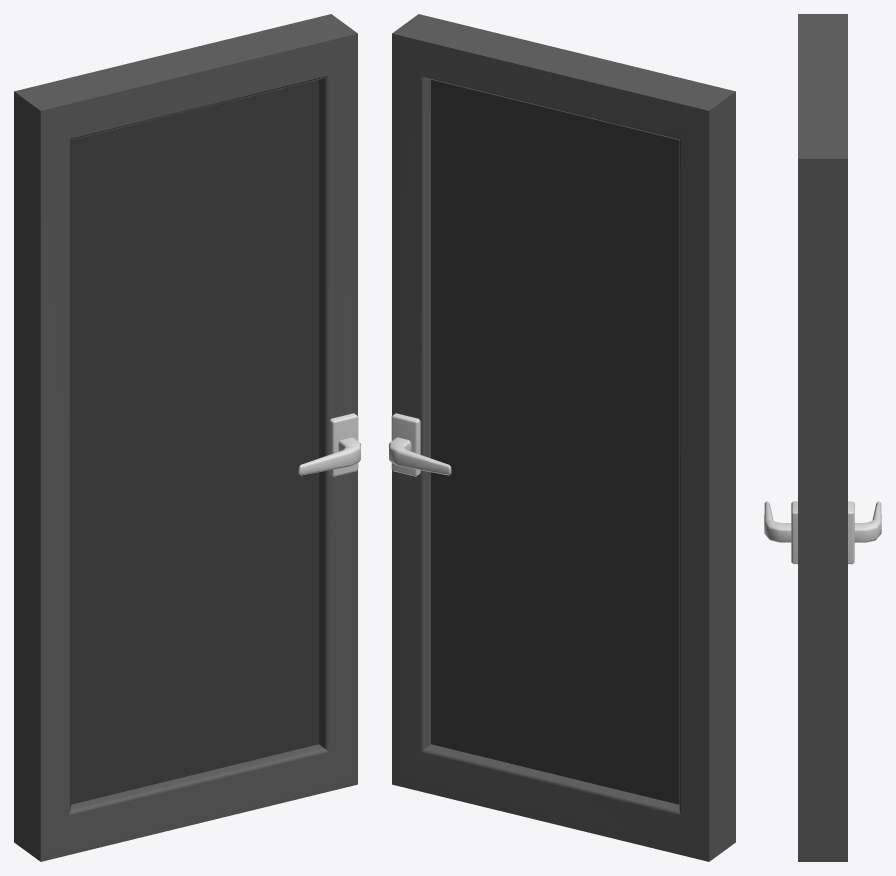
File: door_033.fbx
The picture shows the model from 3 angles, left to right: view 1: azimuth 30°, elevation 25°; view 2: azimuth 150°, elevation 25°; view 3: azimuth 270°, elevation 25°; orthographic projection. The views are drawn at different scales.
Parts seen in each view (by area): view 1: door_033; view 2: door_033; view 3: door_033.
Part boxes in pixels (x1,y1,x2,y2): door_033: (14,14,360,861); door_033: (389,14,735,861); door_033: (764,14,881,861).
Bounding box in the file's own units: 95.15 × 32.58 × 215.
